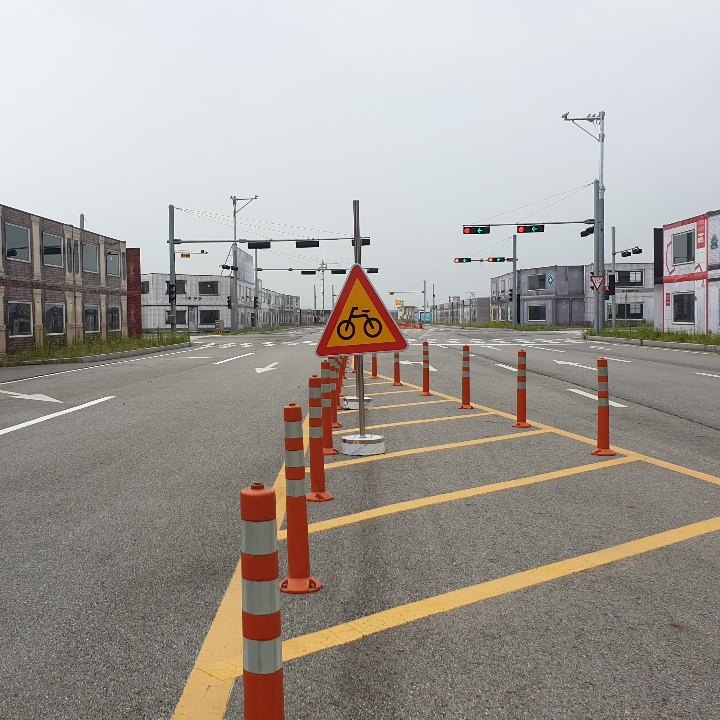bicycle: (317, 263, 404, 355)
